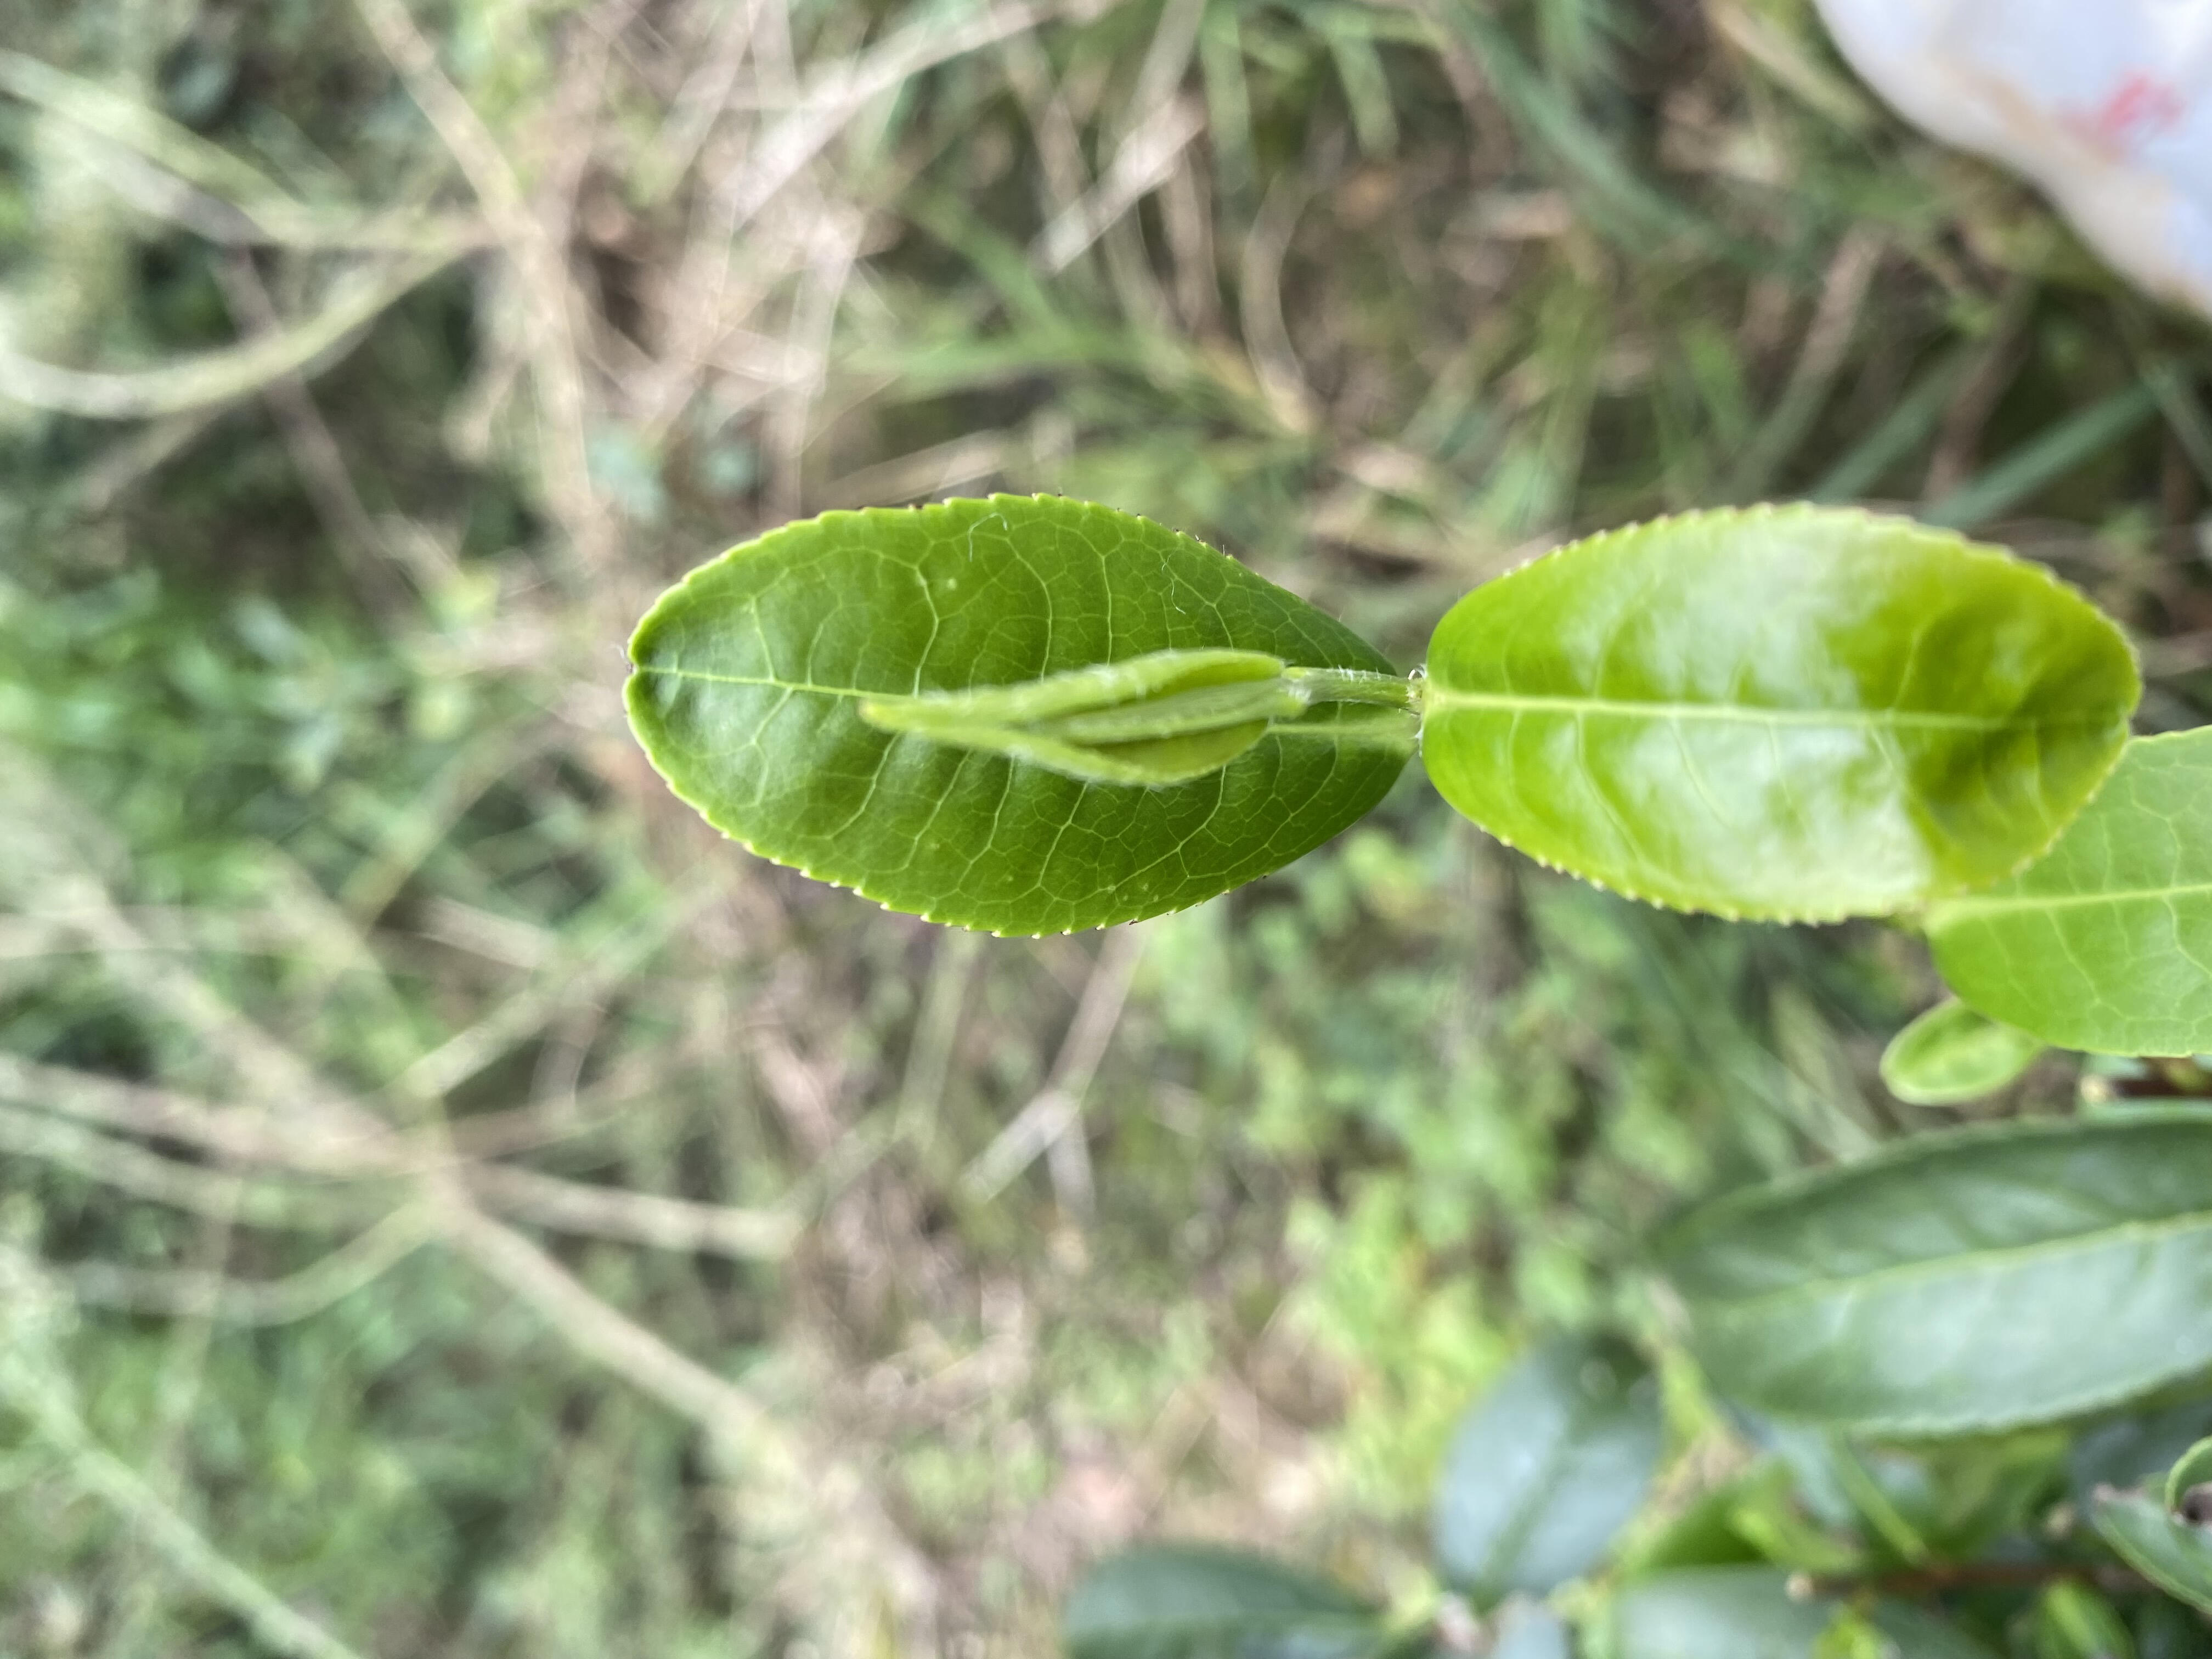healthy: (620, 493, 1411, 939), (1425, 498, 2146, 924)
